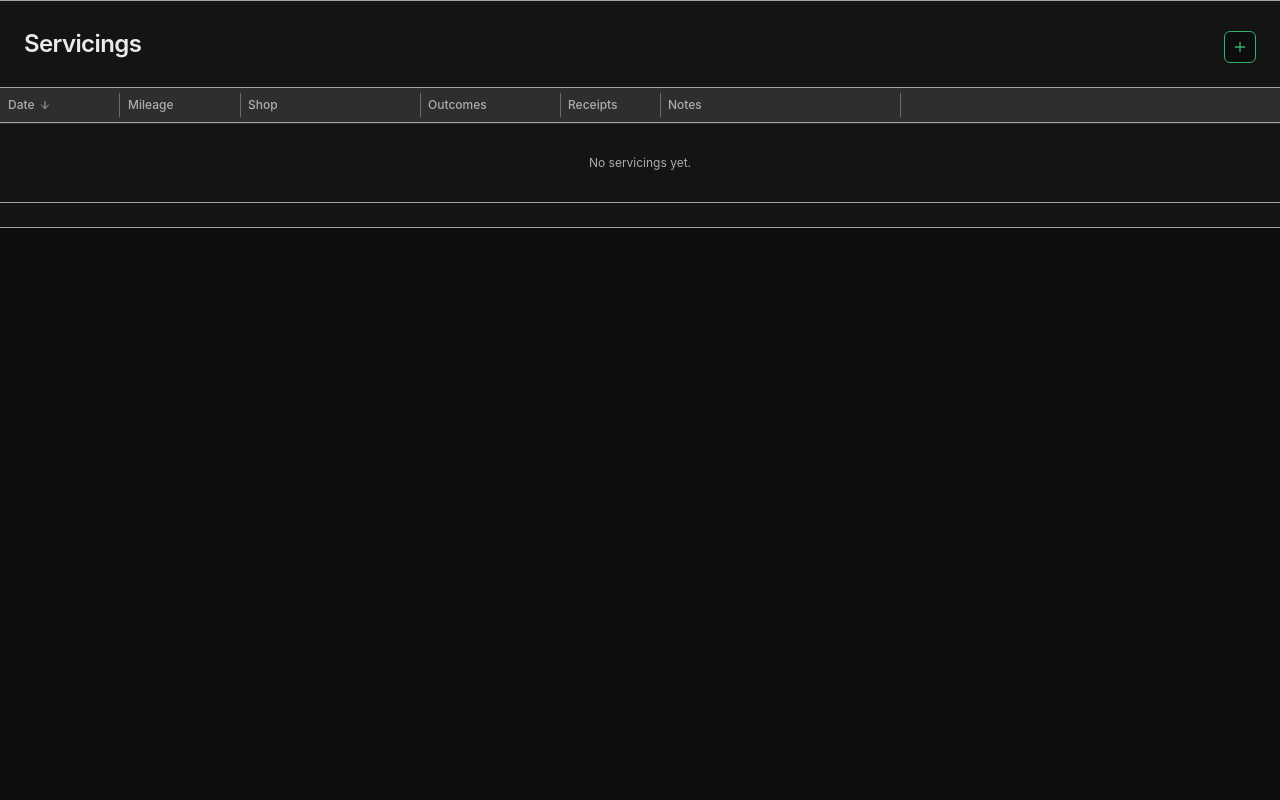
GarageServicingsGrid servicing dialog › lists pending receipt files and lets the user remove them before saving
Later steps or results of the test are not shown.
Click the button named "Add servicing".
click(1240, 47)  # box left=1224, top=31, right=1256, bottom=63
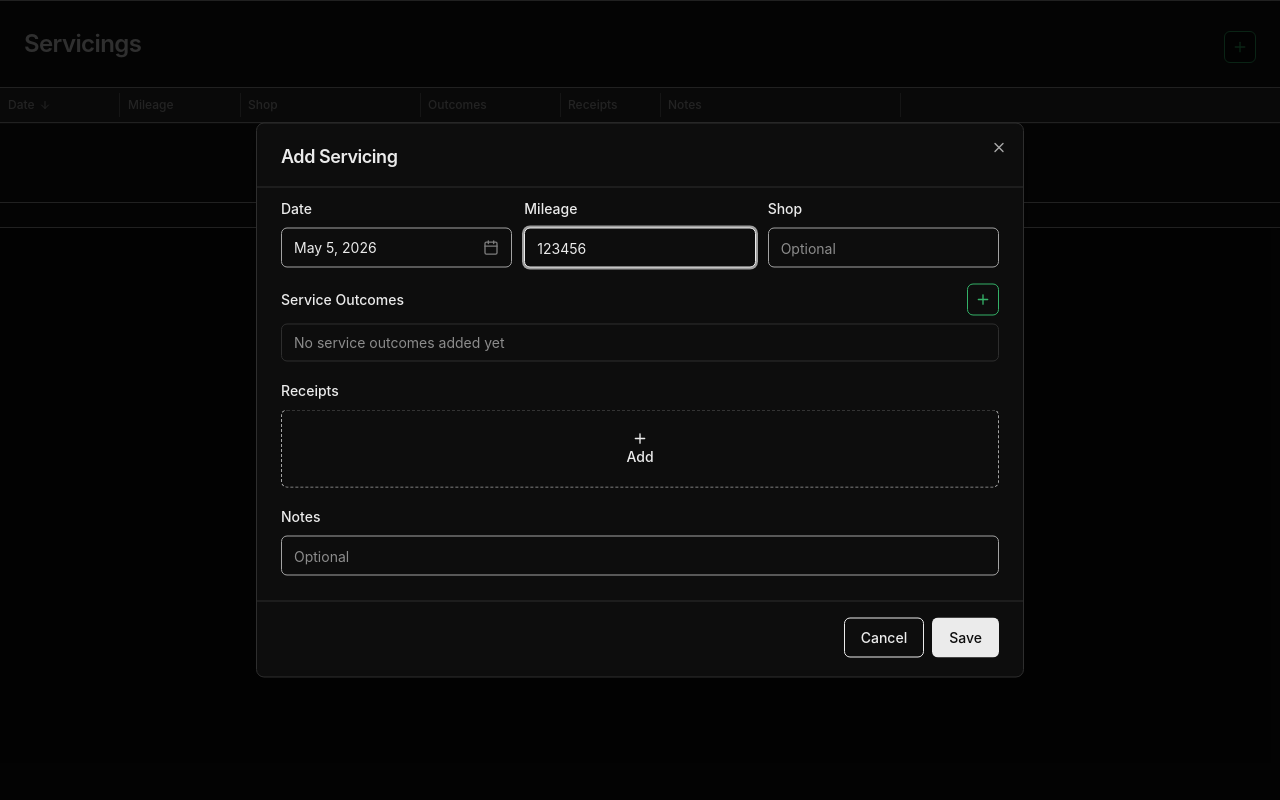
Check: the dialog is shown, box left=256, top=122, right=1024, bottom=678
Check: the element with id "garage-servicing-receipts" is shown, box left=281, top=378, right=999, bottom=488
